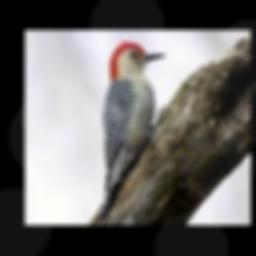Woodpecker: (91, 42, 165, 225)
